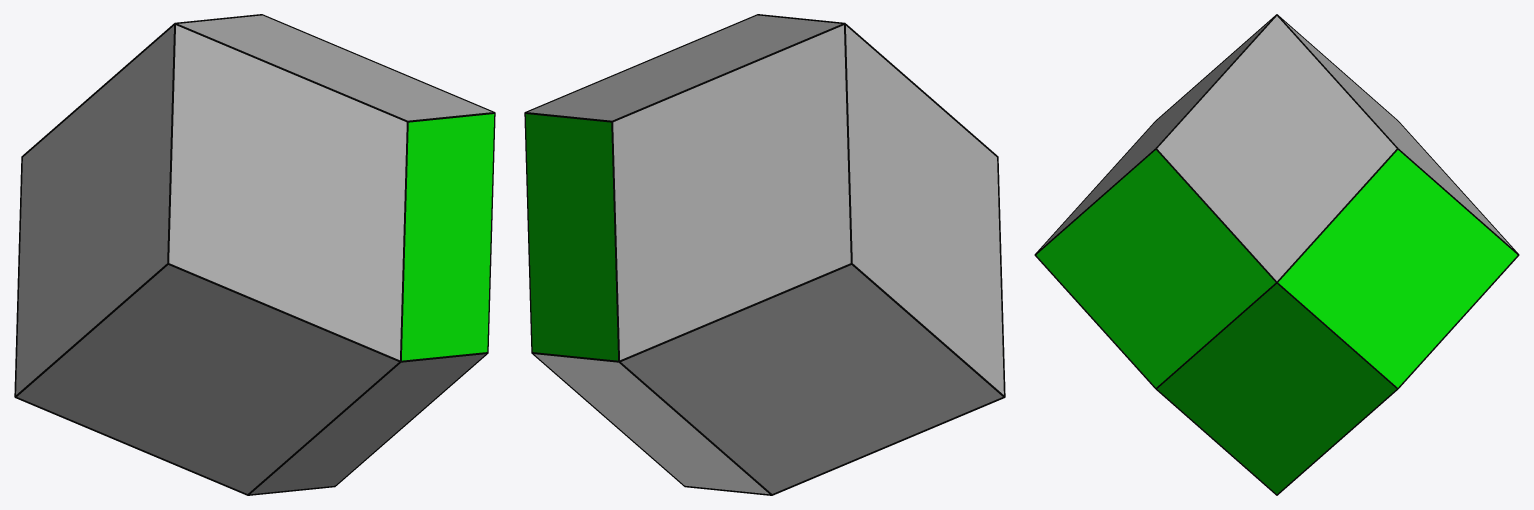
Rendered from RhombicDodecahedron3_1.glb.
3 views of the same model, side by side, from view 1: azimuth 30°, elevation 25°; view 2: azimuth 150°, elevation 25°; view 3: azimuth 270°, elevation 25° (orthographic). The views are drawn at different scales.
Bounding box in the file's own units: 2.02 × 2.02 × 2.13.
